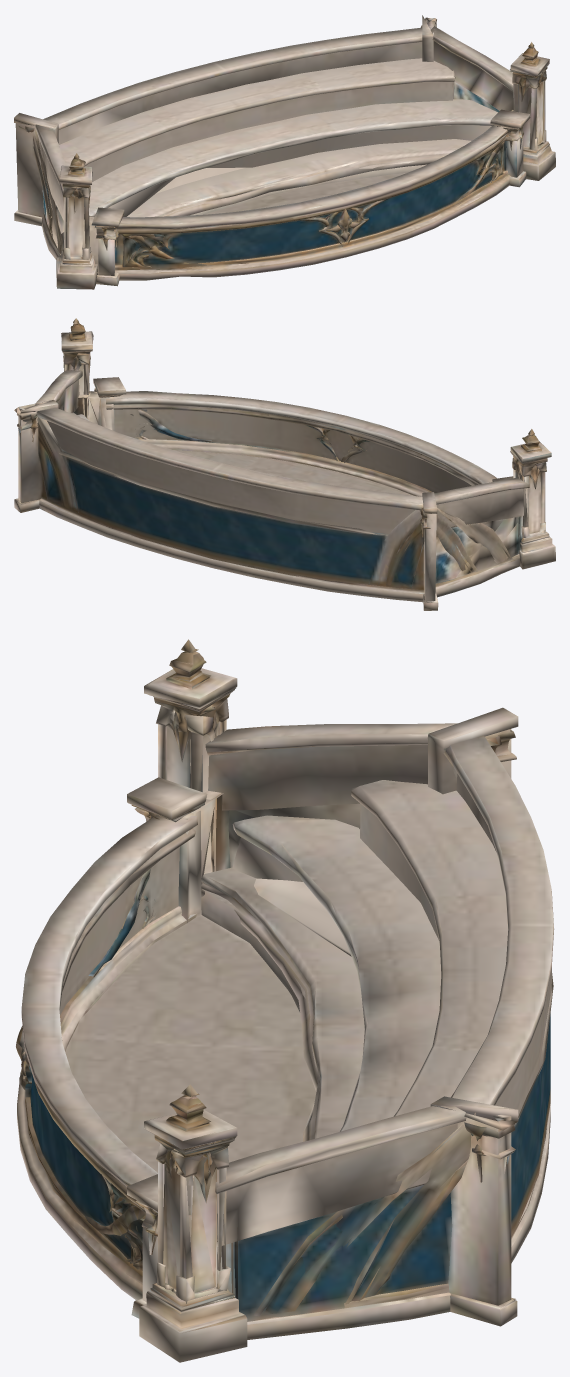
File: arena-tribune-facade.glb
3 views of the same model, one above another, from view 1: azimuth 30°, elevation 25°; view 2: azimuth 150°, elevation 25°; view 3: azimuth 270°, elevation 25° (orthographic). The views are drawn at different scales.
Bounding box in the file's own units: 0.9575 × 0.2368 × 0.4473.
Materials: 1 (1 with a texture image).
